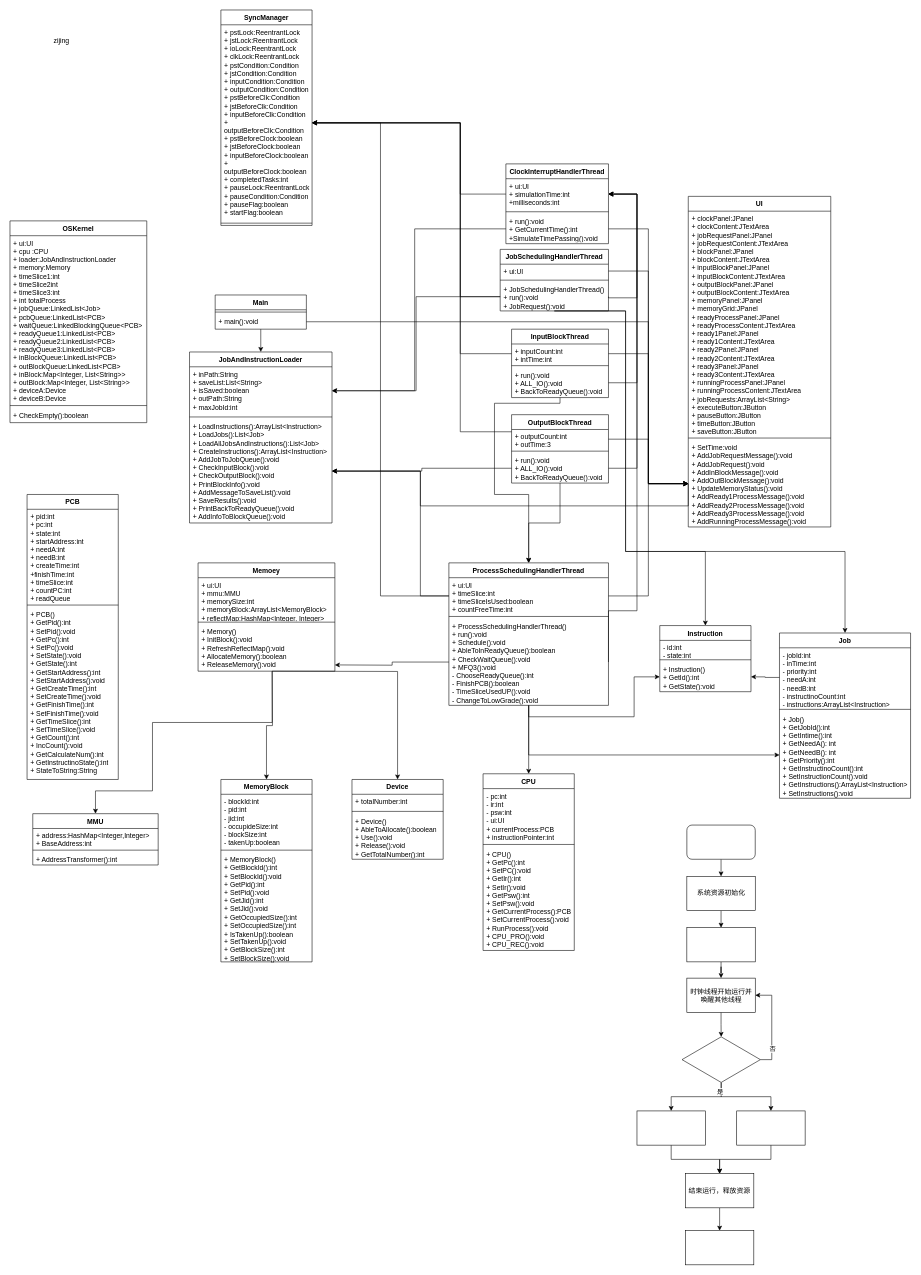
Some shapes in this 921 by 1275 pixel diagram are drawn without their labels. Each missing label, with the centre of its shape:
IO处理: the point at 770,1127
UI启动并创建线程: the point at 720,944
作业调度、进程调度: the point at 670,1127
保存结果，系统关闭: the point at 719,1247
唤醒成功: the point at 720,1059
运行: the point at 720,842
